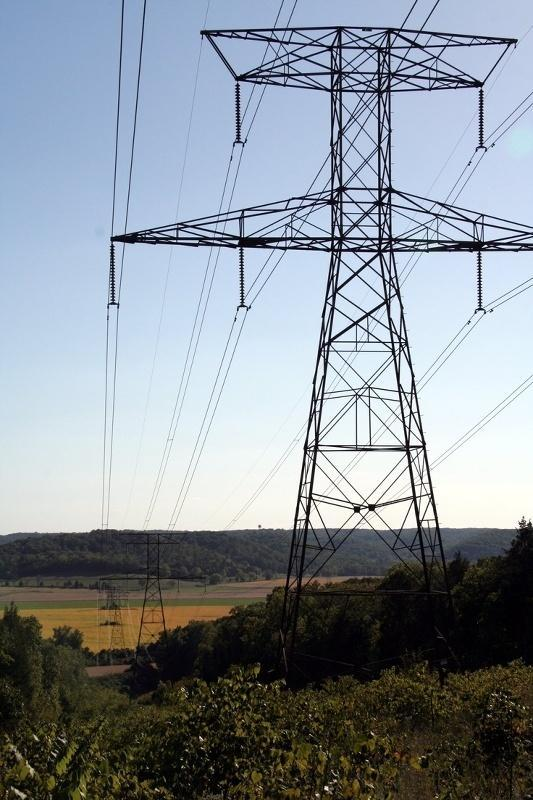power_tower: (109, 24, 533, 698), (127, 526, 177, 715), (94, 582, 139, 650), (230, 81, 248, 150), (106, 242, 121, 308), (235, 249, 250, 312), (472, 252, 487, 314), (476, 86, 488, 154), (203, 579, 208, 594), (177, 580, 180, 594)
